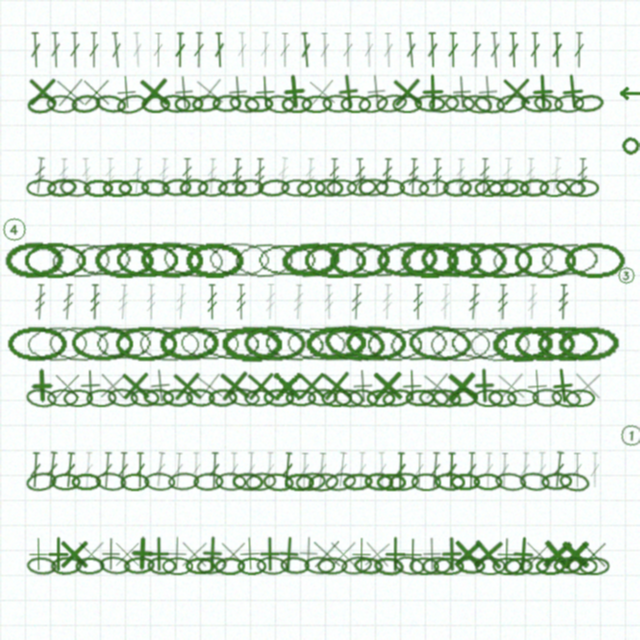chain: (322, 322, 388, 365), (161, 239, 226, 280), (47, 324, 111, 363), (262, 324, 326, 363), (280, 240, 342, 280), (376, 240, 439, 279), (491, 240, 554, 279), (408, 324, 471, 363), (387, 324, 449, 363), (420, 241, 483, 279), (468, 325, 531, 363), (243, 325, 307, 362), (285, 325, 347, 363), (557, 325, 619, 363), (140, 241, 203, 278), (26, 325, 89, 362), (50, 241, 111, 279), (73, 241, 134, 279), (233, 241, 294, 279), (208, 241, 270, 278), (329, 241, 391, 278), (539, 241, 601, 278), (71, 325, 133, 362), (138, 325, 200, 362), (179, 325, 241, 362), (491, 325, 553, 362), (24, 242, 87, 278), (304, 242, 367, 278), (514, 242, 577, 278), (429, 326, 492, 362), (4, 241, 65, 278), (353, 241, 414, 278), (159, 325, 220, 362), (221, 325, 282, 362), (305, 325, 366, 362), (345, 325, 406, 362), (449, 325, 510, 362), (116, 242, 178, 278), (446, 242, 508, 278), (470, 242, 532, 278), (564, 242, 626, 278), (115, 326, 177, 362), (514, 326, 576, 362), (537, 326, 599, 362), (94, 325, 154, 362), (94, 242, 155, 278), (256, 242, 317, 278), (7, 326, 68, 362), (201, 326, 262, 362), (185, 242, 245, 278), (400, 242, 460, 278), (365, 326, 425, 362), (115, 92, 148, 116), (375, 92, 408, 115), (25, 470, 58, 493), (340, 554, 373, 577), (393, 554, 426, 577), (357, 92, 389, 115), (94, 93, 127, 115), (228, 93, 261, 115), (473, 93, 506, 115), (25, 387, 58, 409), (332, 387, 365, 409), (381, 387, 414, 409), (307, 471, 340, 493), (324, 471, 357, 493), (494, 471, 527, 493), (558, 471, 591, 493), (26, 93, 58, 115), (461, 93, 493, 115), (347, 387, 379, 409), (431, 387, 463, 409), (550, 387, 582, 409), (70, 93, 102, 114), (159, 93, 191, 114), (428, 93, 460, 114), (495, 93, 527, 114), (459, 177, 491, 198), (107, 387, 139, 408), (228, 387, 260, 408), (95, 471, 127, 492), (245, 471, 277, 492), (388, 471, 420, 492), (99, 555, 131, 576), (191, 93, 222, 114), (533, 93, 564, 114), (573, 93, 604, 114), (46, 177, 77, 198), (555, 177, 586, 198), (295, 471, 326, 492), (519, 471, 550, 492), (196, 555, 227, 576), (46, 94, 78, 114), (520, 94, 552, 114), (59, 178, 91, 198), (258, 178, 290, 198), (418, 178, 450, 198), (487, 178, 519, 198), (418, 388, 450, 408), (262, 472, 294, 492), (264, 94, 295, 114), (140, 178, 171, 198), (217, 178, 248, 198), (234, 178, 265, 198), (296, 178, 327, 198), (487, 388, 518, 408), (342, 472, 373, 492), (26, 556, 57, 576), (353, 556, 384, 576), (373, 556, 404, 576), (503, 556, 534, 576), (444, 94, 476, 113), (50, 556, 82, 575), (123, 556, 155, 575), (256, 556, 288, 575), (421, 556, 453, 575), (322, 94, 353, 113), (414, 94, 445, 113), (197, 178, 228, 197), (346, 178, 377, 197), (358, 178, 389, 197), (442, 178, 473, 197), (143, 388, 174, 407), (162, 388, 193, 407), (185, 388, 216, 407), (263, 388, 294, 407), (307, 388, 338, 407), (144, 472, 175, 491), (168, 472, 199, 491), (193, 472, 224, 491), (215, 472, 246, 491), (232, 472, 263, 491), (434, 472, 465, 491), (541, 472, 572, 491), (304, 556, 335, 575), (519, 556, 550, 575), (212, 94, 242, 113), (554, 94, 584, 113), (162, 178, 192, 197), (179, 178, 209, 197), (314, 178, 344, 197), (399, 178, 429, 197), (519, 178, 549, 197), (130, 388, 160, 407), (208, 388, 238, 407), (448, 388, 478, 407), (532, 388, 562, 407), (364, 472, 394, 491), (147, 556, 177, 575), (280, 556, 310, 575), (456, 556, 486, 575), (553, 556, 583, 575), (281, 95, 312, 113), (301, 95, 332, 113), (340, 95, 371, 113), (26, 179, 57, 197), (118, 179, 149, 197), (281, 179, 312, 197), (326, 179, 357, 197), (568, 179, 599, 197), (47, 389, 78, 407), (86, 389, 117, 407), (285, 389, 316, 407), (321, 389, 352, 407), (507, 389, 538, 407), (162, 557, 193, 575), (214, 557, 245, 575), (317, 557, 348, 575), (433, 557, 464, 575), (475, 557, 506, 575), (567, 557, 598, 575), (579, 557, 610, 575), (141, 95, 171, 113), (174, 95, 204, 113), (244, 95, 274, 113), (392, 95, 422, 113), (83, 179, 113, 197), (102, 179, 132, 197), (375, 179, 405, 197), (474, 179, 504, 197), (500, 179, 530, 197), (539, 179, 569, 197), (63, 389, 93, 407), (244, 389, 274, 407), (366, 389, 396, 407), (405, 389, 435, 407), (473, 389, 503, 407), (565, 389, 595, 407), (51, 473, 81, 491), (71, 473, 101, 491), (120, 473, 150, 491), (284, 473, 314, 491), (376, 473, 406, 491), (411, 473, 441, 491), (450, 473, 480, 491), (473, 473, 503, 491), (75, 557, 105, 575), (185, 557, 215, 575), (237, 557, 267, 575), (409, 557, 439, 575), (492, 557, 522, 575), (535, 557, 565, 575)
double: (44, 451, 60, 488), (152, 451, 168, 488), (334, 451, 349, 488), (551, 451, 566, 488), (109, 32, 124, 68), (62, 452, 77, 488), (280, 452, 295, 488), (314, 452, 329, 488), (299, 32, 313, 68), (404, 32, 418, 68), (488, 32, 502, 68), (81, 452, 95, 488), (100, 452, 114, 488), (116, 452, 130, 488), (171, 452, 185, 488), (428, 452, 442, 488), (518, 452, 532, 488), (29, 32, 42, 68), (49, 32, 62, 68), (131, 32, 144, 68), (213, 32, 226, 68), (382, 32, 395, 68), (426, 32, 439, 68), (507, 32, 520, 68), (29, 452, 42, 488), (208, 452, 221, 488), (244, 452, 257, 488), (263, 452, 276, 488), (298, 452, 311, 488), (355, 452, 368, 488), (394, 452, 407, 488), (445, 452, 458, 488), (465, 452, 478, 488), (482, 452, 495, 488), (498, 452, 511, 488), (535, 452, 548, 488), (69, 32, 81, 68), (88, 32, 100, 68), (152, 32, 164, 68), (174, 32, 186, 68), (193, 32, 205, 68), (236, 32, 248, 68), (259, 32, 271, 68), (279, 32, 291, 68), (319, 32, 331, 68), (342, 32, 354, 68), (363, 32, 375, 68), (447, 32, 459, 68), (470, 32, 482, 68), (529, 32, 541, 68), (551, 32, 563, 68), (573, 32, 585, 68), (134, 452, 146, 488), (190, 452, 202, 488), (228, 452, 240, 488), (376, 452, 388, 488), (413, 452, 425, 488), (571, 452, 583, 488), (589, 452, 601, 488)
noise: (1, 216, 27, 242), (618, 422, 640, 449), (620, 135, 640, 157), (616, 265, 636, 285), (617, 87, 640, 100)
single: (189, 366, 229, 406), (190, 72, 229, 111), (275, 72, 314, 111), (329, 72, 368, 111), (357, 72, 396, 111), (553, 72, 592, 111), (141, 366, 180, 405), (215, 366, 254, 405), (317, 366, 356, 405), (417, 366, 456, 405), (543, 366, 582, 405), (51, 73, 89, 111), (107, 73, 145, 111), (135, 73, 173, 111), (165, 73, 203, 111), (219, 73, 257, 111), (303, 73, 341, 111), (388, 73, 426, 111), (443, 73, 481, 111), (469, 73, 507, 111), (168, 367, 206, 405), (242, 367, 280, 405), (344, 367, 382, 405), (443, 367, 481, 405), (492, 367, 530, 405), (518, 367, 556, 405), (270, 535, 308, 573), (358, 535, 396, 573), (469, 535, 507, 573), (504, 535, 542, 573), (538, 535, 576, 573), (24, 73, 61, 110), (246, 73, 283, 110), (414, 73, 451, 110), (498, 73, 535, 110), (524, 73, 561, 110), (23, 367, 60, 404), (72, 367, 109, 404), (94, 367, 131, 404), (117, 367, 154, 404), (293, 367, 330, 404), (369, 367, 406, 404), (393, 367, 430, 404), (466, 367, 503, 404), (569, 367, 606, 404), (124, 535, 161, 572), (158, 535, 195, 572), (194, 535, 231, 572), (231, 535, 268, 572), (290, 535, 327, 572), (308, 535, 345, 572), (449, 535, 486, 572), (78, 74, 114, 110), (49, 368, 85, 404), (269, 368, 305, 404), (20, 536, 56, 572), (40, 536, 76, 572), (56, 536, 92, 572), (73, 536, 109, 572), (93, 536, 129, 572), (109, 536, 145, 572), (141, 536, 177, 572), (176, 536, 212, 572), (215, 536, 251, 572), (252, 536, 288, 572), (325, 536, 361, 572), (343, 536, 379, 572), (377, 536, 413, 572), (394, 536, 430, 572), (414, 536, 450, 572), (434, 536, 470, 572), (488, 536, 524, 572), (521, 536, 557, 572), (557, 536, 593, 572), (575, 536, 611, 572)
treble: (275, 157, 291, 194), (548, 157, 564, 194), (32, 157, 47, 194), (156, 158, 171, 194), (130, 158, 144, 194), (205, 158, 219, 194), (230, 158, 244, 194), (303, 158, 317, 194), (380, 158, 394, 194), (33, 284, 47, 320), (61, 284, 75, 320), (116, 284, 130, 320), (174, 284, 188, 320), (467, 284, 481, 320), (57, 158, 70, 194), (80, 158, 93, 194), (253, 158, 266, 194), (354, 158, 367, 194), (407, 158, 420, 194), (454, 158, 467, 194), (478, 158, 491, 194), (501, 158, 514, 194), (524, 158, 537, 194), (576, 158, 589, 194), (264, 284, 277, 320), (292, 284, 305, 320), (350, 284, 363, 320), (381, 284, 394, 320), (439, 284, 452, 320), (526, 284, 539, 320), (557, 284, 570, 320), (104, 158, 116, 194), (181, 158, 193, 194), (328, 158, 340, 194), (431, 158, 443, 194), (89, 284, 101, 320), (145, 284, 157, 320), (206, 284, 218, 320), (235, 284, 247, 320), (323, 284, 335, 320), (412, 284, 424, 320), (497, 284, 509, 320)
